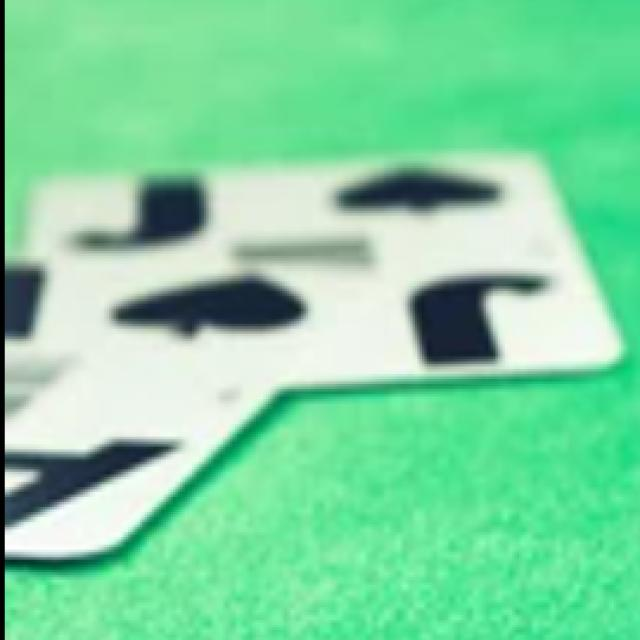Card-A: (5, 251, 281, 557)
Card-J: (47, 153, 623, 381)
